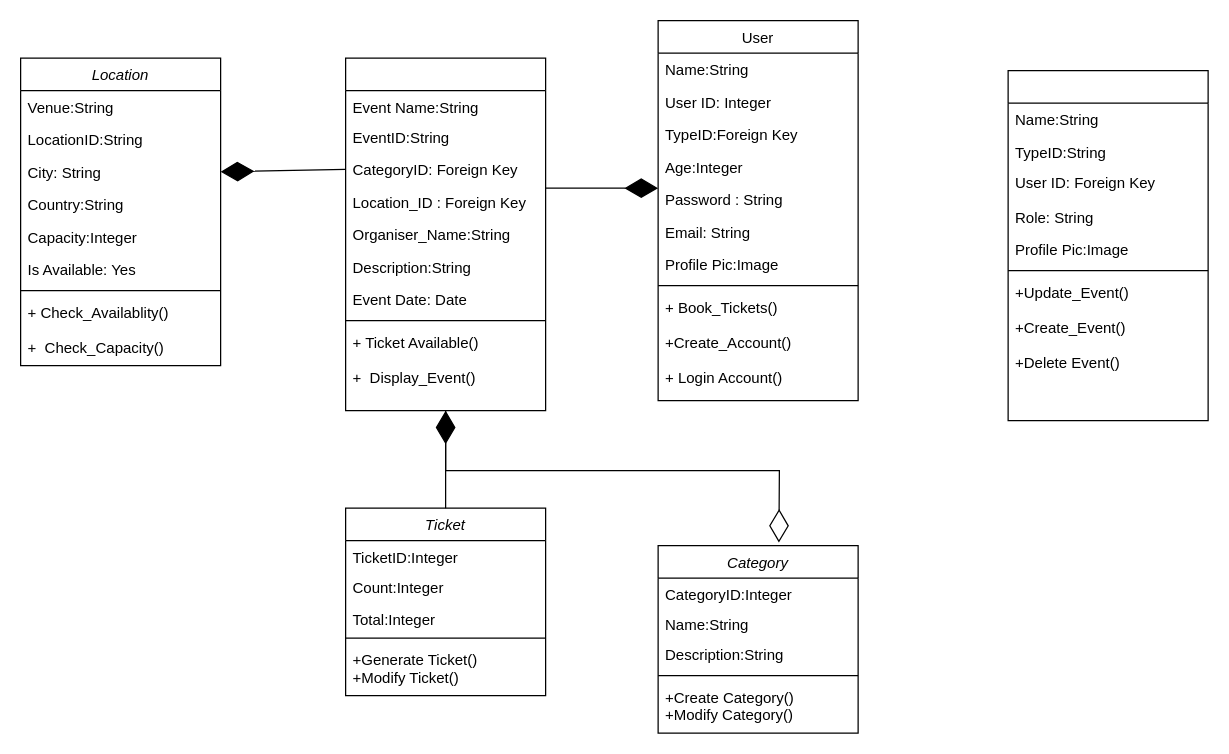
This 1229x754 diagram has some shape labels left out. Here are the shapes that lost their labels. From the top down, the box of each, then its label:
(344, 57, 546, 411): Events
(1007, 69, 1208, 421): User_Type
